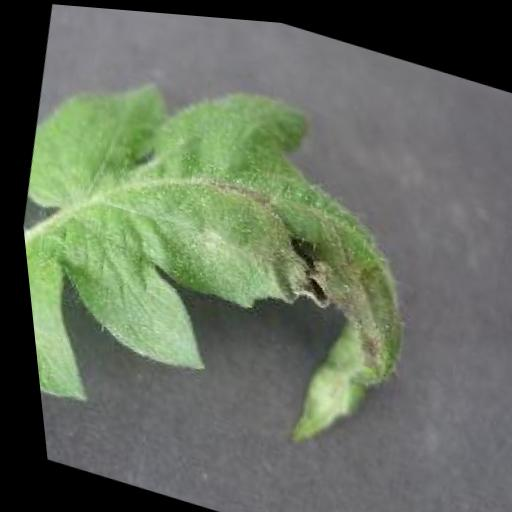Late Blight: (2, 28, 456, 496)
